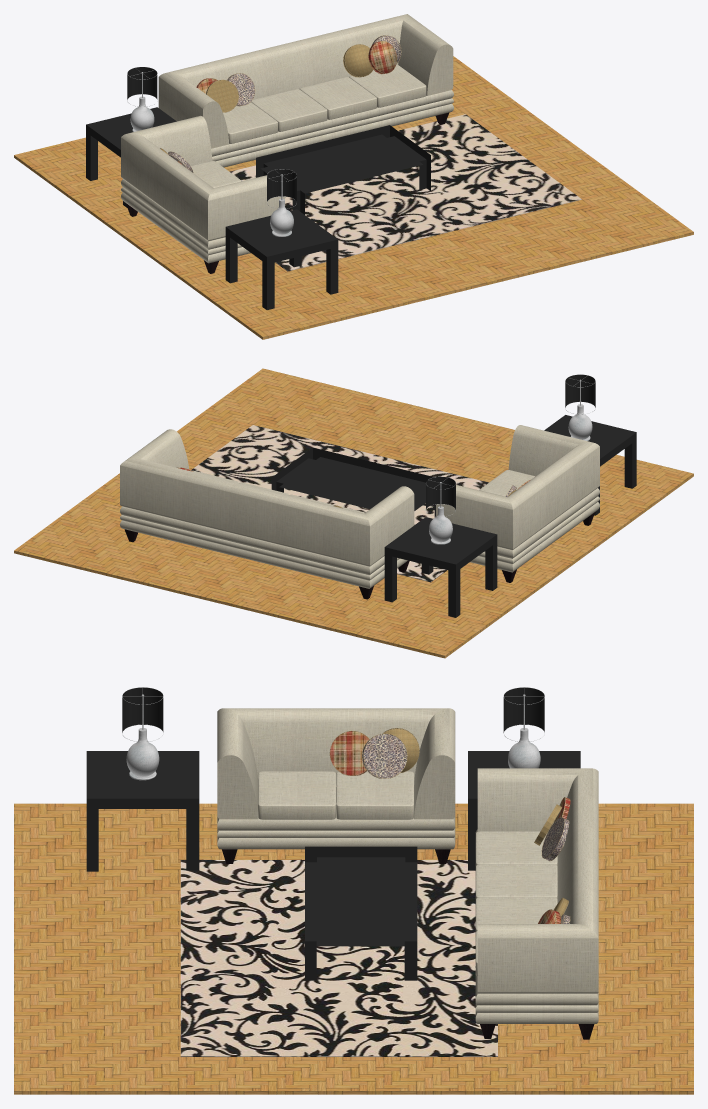
File: LivingRmSuite11pc2.obj
3 views of the same model, one above another, from view 1: azimuth 30°, elevation 25°; view 2: azimuth 150°, elevation 25°; view 3: azimuth 270°, elevation 25° (orthographic). The views are drawn at different scales.
Parts seen in each view (by area): view 1: Proj_EZCouchDesign01-GRP-111521-SUC_Floor_022, Proj_EZCouchDesign01-COM-Interior_Fabric_RugArea0114-111531-Capr, Proj_EZCouchDesign01-GRP-111506-Image_Linen01, Proj_EZCouchDesign01-GRP-110936-Image_Linen01, Proj_EZCouchDesign01-COM-Interior_Furn_Set_TableCoffee01-111529-, Proj_EZCouchDesign01-COM-Interior_Furn_Set_TableEnd01-111527-013, Proj_EZCouchDesign01-GRP-111505-Image_Linen01, Proj_EZCouchDesign01-GRP-110934-Image_Linen01, Proj_EZCouchDesign01-COM-Superellipsoid-99405-Image_Linen01, Proj_EZCouchDesign01-COM-Superellipsoid-99404-Image_Linen01, Proj_EZCouchDesign01-COM-Interior_Furn_Set_TableEnd01_1-111526-0, Proj_EZCouchDesign01-COM-Superellipsoid-99406-Image_Linen01 (+8 smaller); view 2: Proj_EZCouchDesign01-GRP-111521-SUC_Floor_022, Proj_EZCouchDesign01-GRP-111506-Image_Linen01, Proj_EZCouchDesign01-GRP-110936-Image_Linen01, Proj_EZCouchDesign01-COM-Interior_Fabric_RugArea0114-111531-Capr, Proj_EZCouchDesign01-GRP-111505-Image_Linen01, Proj_EZCouchDesign01-COM-Interior_Furn_Set_TableCoffee01-111529-, Proj_EZCouchDesign01-COM-Interior_Furn_Set_TableEnd01_1-111526-0, Proj_EZCouchDesign01-GRP-110934-Image_Linen01, Proj_EZCouchDesign01-COM-Interior_Furn_Set_TableEnd01-111527-013, Proj_EZCouchDesign01-COM-LampShade-111397-0136_Charcoal, Proj_EZCouchDesign01-COM-LampBase-111398-00_TaME_MetalBrushedAlu, Proj_EZCouchDesign01-COM-Superellipsoid-93908-Image_Linen01; view 3: Proj_EZCouchDesign01-GRP-111521-SUC_Floor_022, Proj_EZCouchDesign01-COM-Interior_Fabric_RugArea0114-111531-Capr, Proj_EZCouchDesign01-GRP-111506-Image_Linen01, Proj_EZCouchDesign01-GRP-110936-Image_Linen01, Proj_EZCouchDesign01-COM-Interior_Furn_Set_TableCoffee01-111529-, Proj_EZCouchDesign01-COM-Interior_Furn_Set_TableEnd01-111527-013, Proj_EZCouchDesign01-GRP-110934-Image_Linen01, Proj_EZCouchDesign01-GRP-111505-Image_Linen01, Proj_EZCouchDesign01-COM-Superellipsoid-93908-Image_Linen01, Proj_EZCouchDesign01-COM-Superellipsoid-93907-Image_Linen01, Proj_EZCouchDesign01-COM-LampShade-111397-0136_Charcoal, Proj_EZCouchDesign01-COM-Superellipsoid-99404-Image_Linen01 (+8 smaller).
Part boxes in pixels (x1,y1,x2,y2): Proj_EZCouchDesign01-GRP-111521-SUC_Floor_022: [14, 56, 693, 339]; Proj_EZCouchDesign01-COM-Interior_Fabric_RugArea0114-111531-Capr: [230, 114, 581, 271]; Proj_EZCouchDesign01-GRP-111506-Image_Linen01: [158, 14, 453, 148]; Proj_EZCouchDesign01-GRP-110936-Image_Linen01: [121, 115, 284, 241]; Proj_EZCouchDesign01-COM-Interior_Furn_Set_TableCoffee01-111529-: [256, 125, 430, 214]; Proj_EZCouchDesign01-COM-Interior_Furn_Set_TableEnd01-111527-013: [225, 209, 338, 309]; Proj_EZCouchDesign01-GRP-111505-Image_Linen01: [211, 90, 453, 167]; Proj_EZCouchDesign01-GRP-110934-Image_Linen01: [121, 179, 250, 263]; Proj_EZCouchDesign01-COM-Superellipsoid-99405-Image_Linen01: [299, 77, 376, 119]; Proj_EZCouchDesign01-COM-Superellipsoid-99404-Image_Linen01: [251, 89, 327, 131]; Proj_EZCouchDesign01-COM-Interior_Furn_Set_TableEnd01_1-111526-0: [86, 107, 176, 207]; Proj_EZCouchDesign01-COM-Superellipsoid-99406-Image_Linen01: [349, 64, 426, 107]; Proj_EZCouchDesign01-GRP-111521-SUC_Floor_022: [14, 368, 693, 658]; Proj_EZCouchDesign01-GRP-111506-Image_Linen01: [120, 429, 414, 566]; Proj_EZCouchDesign01-GRP-110936-Image_Linen01: [436, 425, 599, 550]; Proj_EZCouchDesign01-COM-Interior_Fabric_RugArea0114-111531-Capr: [191, 425, 488, 582]; Proj_EZCouchDesign01-GRP-111505-Image_Linen01: [120, 506, 407, 588]; Proj_EZCouchDesign01-COM-Interior_Furn_Set_TableCoffee01-111529-: [271, 447, 435, 517]; Proj_EZCouchDesign01-COM-Interior_Furn_Set_TableEnd01_1-111526-0: [384, 517, 497, 617]; Proj_EZCouchDesign01-GRP-110934-Image_Linen01: [470, 488, 599, 572]; Proj_EZCouchDesign01-COM-Interior_Furn_Set_TableEnd01-111527-013: [544, 415, 636, 515]; Proj_EZCouchDesign01-COM-LampShade-111397-0136_Charcoal: [426, 374, 595, 509]; Proj_EZCouchDesign01-COM-LampBase-111398-00_TaME_MetalBrushedAlu: [429, 379, 592, 544]; Proj_EZCouchDesign01-COM-Superellipsoid-93908-Image_Linen01: [479, 470, 534, 496]; Proj_EZCouchDesign01-GRP-111521-SUC_Floor_022: [14, 803, 693, 1094]; Proj_EZCouchDesign01-COM-Interior_Fabric_RugArea0114-111531-Capr: [180, 860, 497, 1056]; Proj_EZCouchDesign01-GRP-111506-Image_Linen01: [477, 768, 598, 993]; Proj_EZCouchDesign01-GRP-110936-Image_Linen01: [217, 708, 455, 819]; Proj_EZCouchDesign01-COM-Interior_Furn_Set_TableCoffee01-111529-: [305, 846, 417, 980]; Proj_EZCouchDesign01-COM-Interior_Furn_Set_TableEnd01-111527-013: [86, 751, 199, 871]; Proj_EZCouchDesign01-GRP-110934-Image_Linen01: [217, 786, 455, 849]; Proj_EZCouchDesign01-GRP-111505-Image_Linen01: [475, 829, 598, 1023]; Proj_EZCouchDesign01-COM-Superellipsoid-93908-Image_Linen01: [258, 771, 335, 819]; Proj_EZCouchDesign01-COM-Superellipsoid-93907-Image_Linen01: [336, 771, 414, 819]; Proj_EZCouchDesign01-COM-LampShade-111397-0136_Charcoal: [122, 687, 544, 732]; Proj_EZCouchDesign01-COM-Superellipsoid-99404-Image_Linen01: [475, 864, 557, 898].
Bounding box in the file's own units: 4.2 × 1.07 × 4.2.
Materials: 11 (9 with a texture image).
